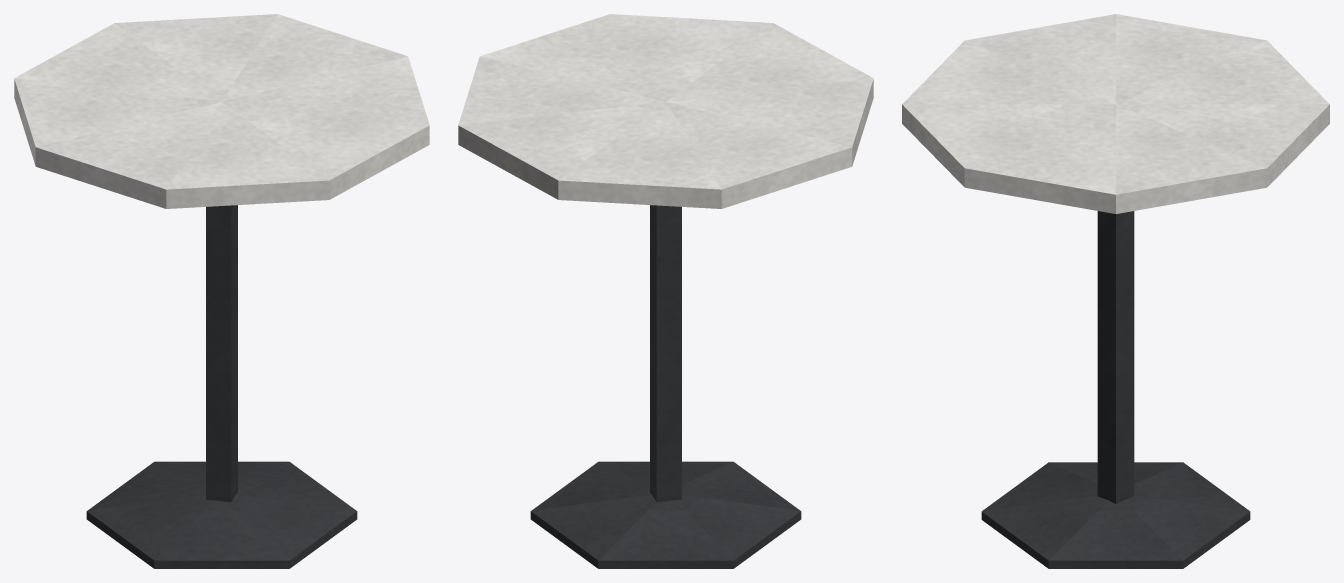
The model's file is SM_Morin_Tavolino_LOD2.fbx.
3 renders of one model, left to right at view 1: azimuth 30°, elevation 25°; view 2: azimuth 150°, elevation 25°; view 3: azimuth 270°, elevation 25°, orthographic.
Parts seen in each view (by area): view 1: SM_Morin_Tavolino_LOD2; view 2: SM_Morin_Tavolino_LOD2; view 3: SM_Morin_Tavolino_LOD2.
Boxes of the visible parts, box(x1,y1,x2,y2) form: SM_Morin_Tavolino_LOD2: box(14, 14, 429, 568); SM_Morin_Tavolino_LOD2: box(458, 14, 873, 568); SM_Morin_Tavolino_LOD2: box(902, 14, 1329, 568).
Bounding box in the file's own units: 70 × 70 × 75.
1 material, 1 textured.
